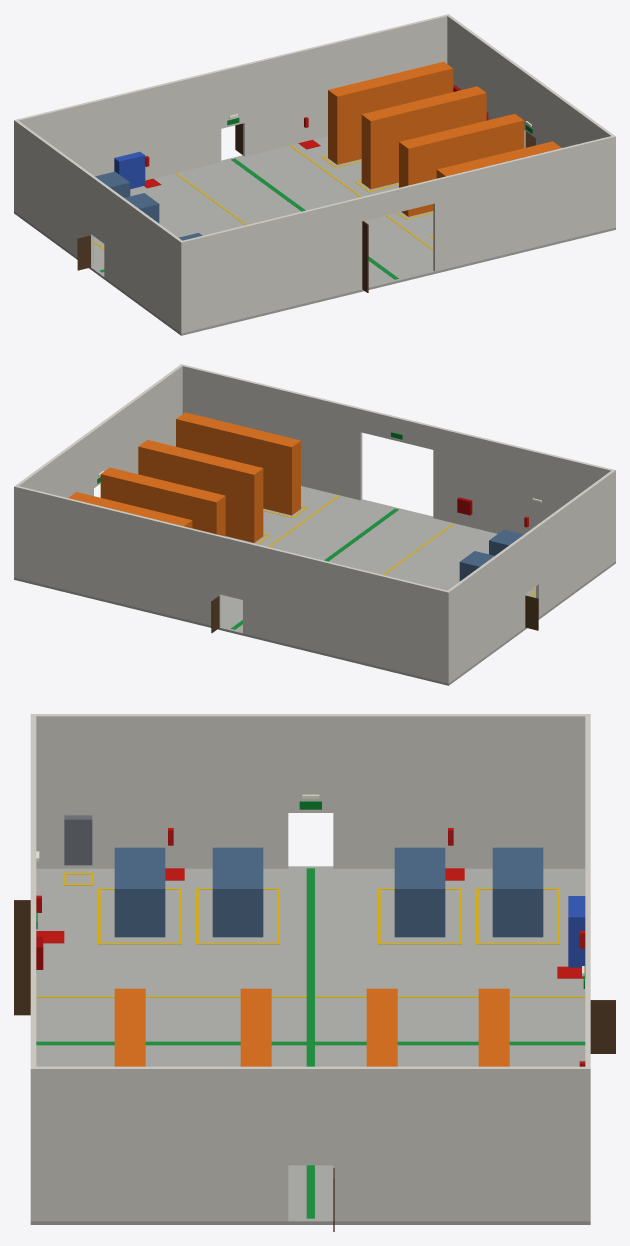
Rendered from galpao-seguranca.dae.
3 views of the same model, one above another, from view 1: azimuth 30°, elevation 25°; view 2: azimuth 150°, elevation 25°; view 3: azimuth 270°, elevation 25° (orthographic). The views are drawn at different scales.
Parts seen in each view (by area): view 1: Piso, Parede frontal 1, Parede frontal 3, Parede fundos 1, Parede fundos 3, Parede esquerda 1, Parede esquerda 3, Porta-paletes 3, Porta-paletes 4, Porta-paletes 2, Parede direita 3, Parede direita 1 (+11 smaller); view 2: Parede fundos 1, Parede fundos 3, Piso, Parede frontal 1, Parede frontal 3, Parede esquerda 3, Parede esquerda 1, Porta-paletes 2, Porta-paletes 1, Parede direita 1, Porta-paletes 3, Parede direita 3 (+8 smaller); view 3: Piso, Parede direita 1, Parede direita 3, Parede esquerda 3, Parede esquerda 1, Maquina 1, Maquina 2, Maquina 3, Maquina 4, Parede direita verga 2, Parede esquerda verga 2, Porta-paletes 1 (+14 smaller).
Part boxes in pixels (x1,y1,x2,y2): Piso: (14, 136, 615, 335); Parede frontal 1: (179, 197, 362, 333); Parede frontal 3: (433, 135, 615, 271); Parede fundos 1: (14, 70, 221, 211); Parede fundos 3: (243, 14, 449, 156); Parede esquerda 1: (104, 185, 184, 332); Parede esquerda 3: (14, 119, 93, 267); Porta-paletes 3: (361, 86, 486, 189); Porta-paletes 4: (328, 61, 453, 164); Porta-paletes 2: (399, 114, 524, 216); Parede direita 3: (447, 14, 525, 147); Parede direita 1: (536, 80, 613, 147); Parede fundos 1: (243, 541, 450, 683); Parede fundos 3: (14, 486, 221, 627); Piso: (14, 486, 615, 685); Parede frontal 1: (433, 426, 615, 561); Parede frontal 3: (180, 364, 362, 500); Parede esquerda 3: (445, 535, 525, 683); Parede esquerda 1: (536, 469, 615, 616); Porta-paletes 2: (138, 440, 263, 542); Porta-paletes 1: (176, 412, 300, 515); Parede direita 1: (104, 364, 182, 473); Porta-paletes 3: (100, 467, 225, 536); Parede direita 3: (14, 430, 93, 575); Piso: (30, 866, 590, 1224); Parede direita 1: (30, 1066, 288, 1221); Parede direita 3: (333, 1066, 590, 1221); Parede esquerda 3: (333, 714, 590, 868); Parede esquerda 1: (31, 714, 288, 868); Maquina 1: (114, 847, 165, 937); Maquina 2: (212, 847, 263, 937); Maquina 3: (394, 847, 445, 937); Maquina 4: (492, 847, 543, 937); Parede direita verga 2: (288, 1066, 333, 1165); Parede esquerda verga 2: (288, 714, 333, 812); Porta-paletes 1: (114, 988, 145, 1066).
Size of the model in its own units: 31.8 by 21.5 by 6.15.
